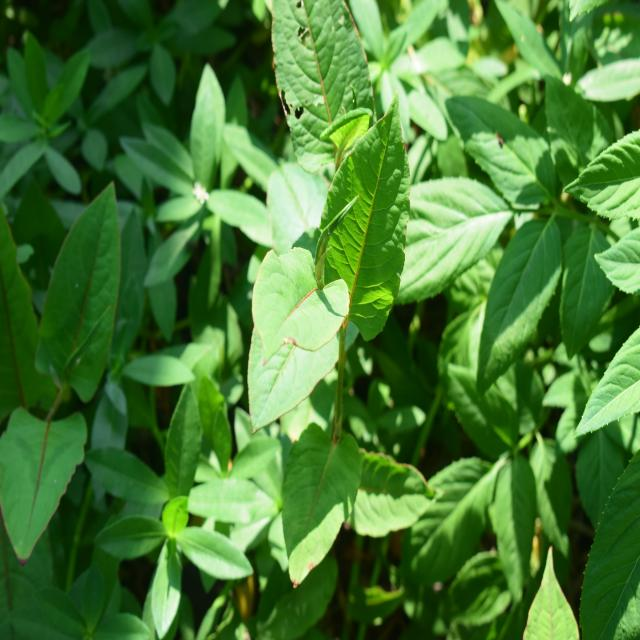Chinese_knotweed: (264, 102, 452, 563)
